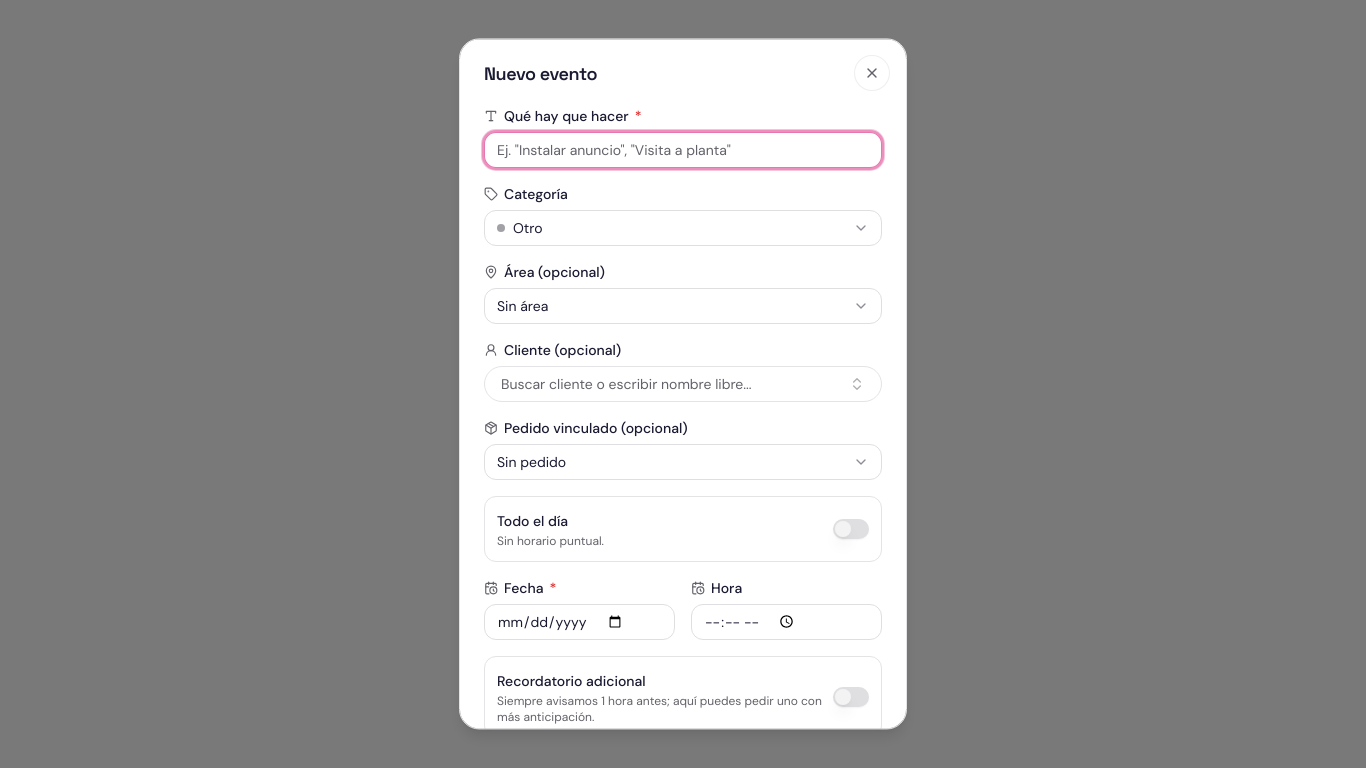
it: CalendarEventDialog › no deja crear un evento sin título
In the date field labelled "Fecha *": (580, 622) [484, 604, 675, 640], type "2026-09-20"
(page scrolled)
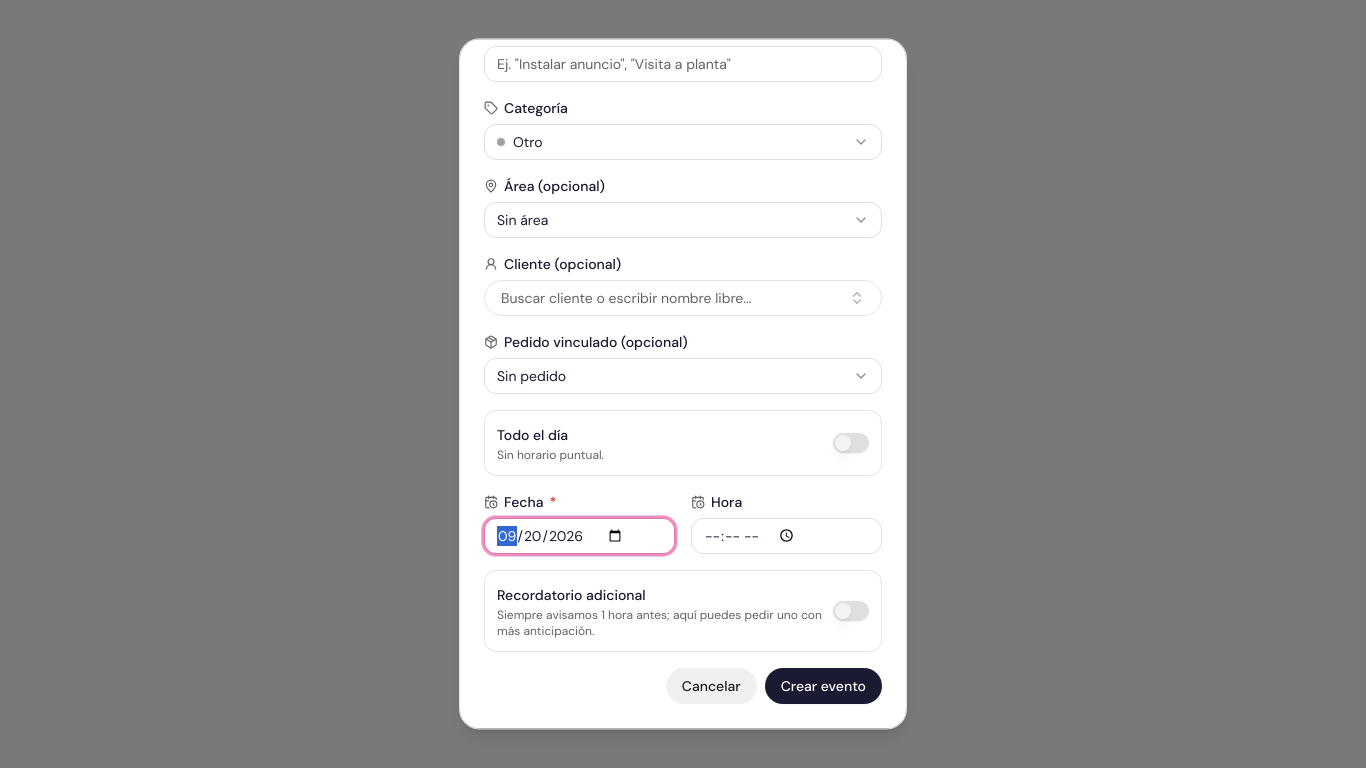
Click the button "Crear evento": (823, 686) [765, 668, 882, 704]
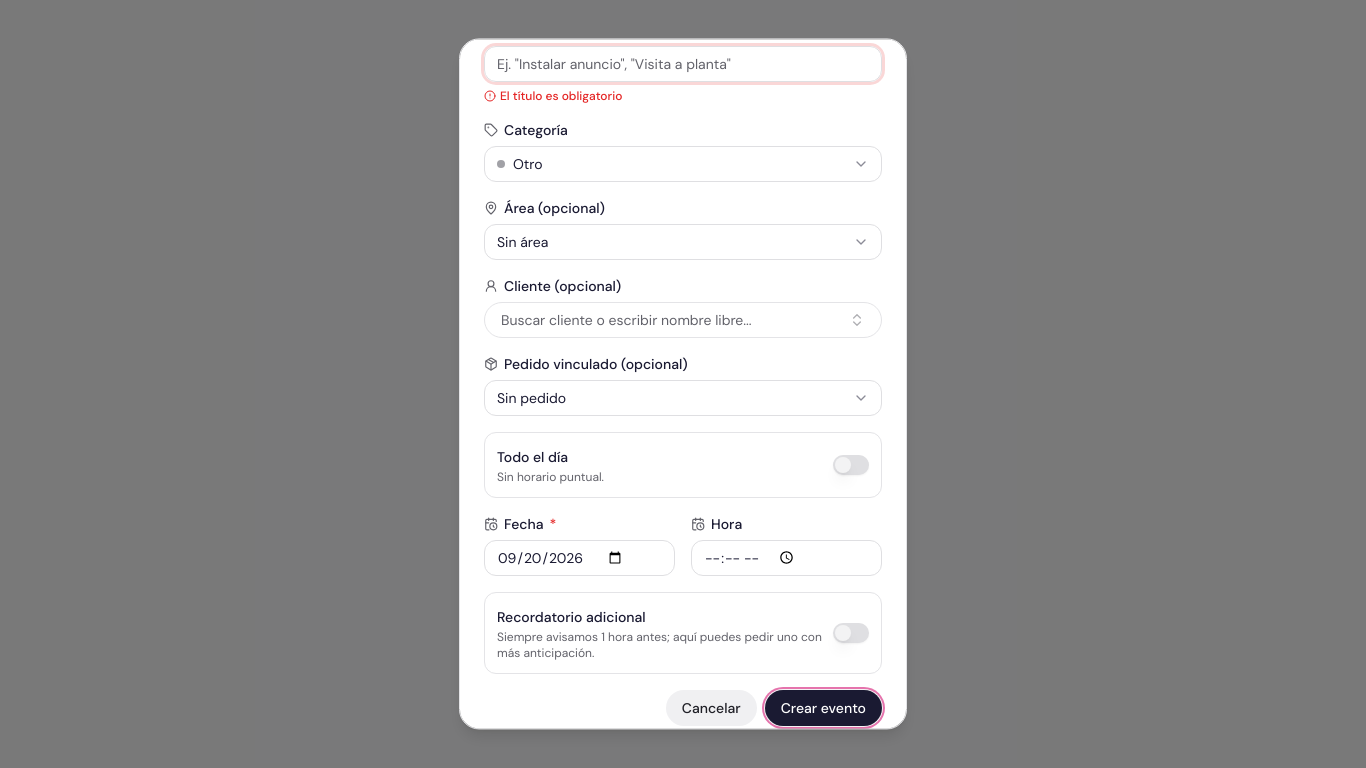
Expected: the text "El título es obligatorio" is shown, [484, 88, 622, 104]
